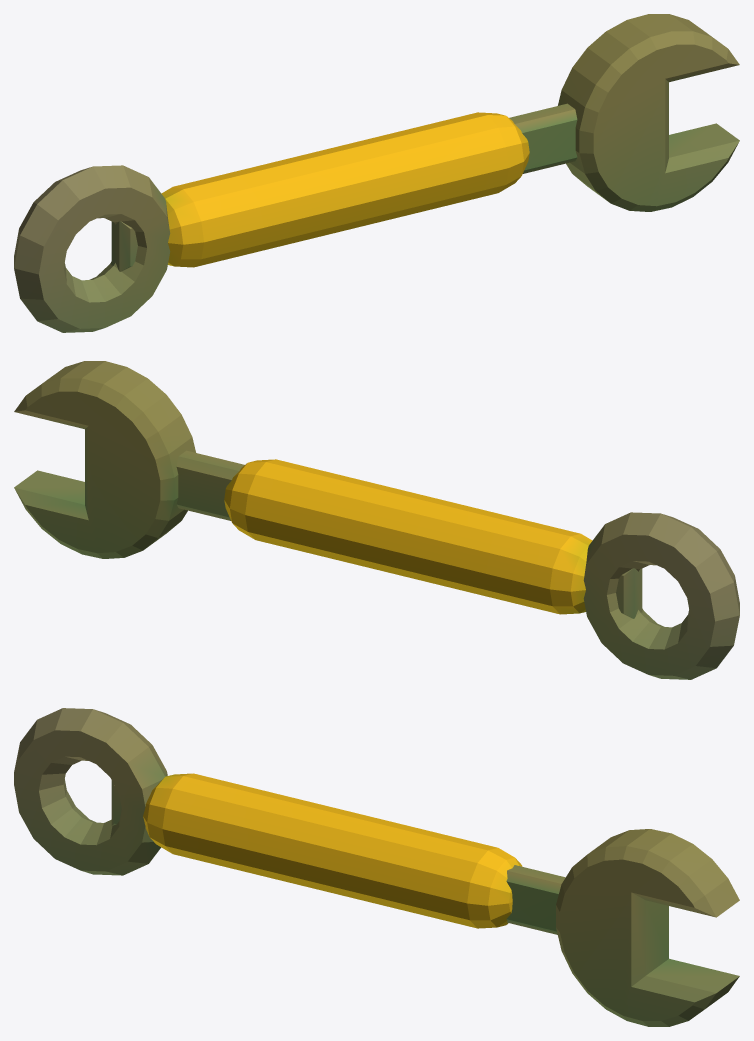
File: Prop_Wrench.fbx
The picture shows the model from 3 angles, top to bottom: view 1: azimuth 30°, elevation 25°; view 2: azimuth 150°, elevation 25°; view 3: azimuth 330°, elevation 25°; orthographic projection.
Parts seen in each view (by area): view 1: Prop_Wrench; view 2: Prop_Wrench; view 3: Prop_Wrench.
Part boxes in pixels (x1=…): Prop_Wrench: x1=14, y1=14, x2=739, y2=332; Prop_Wrench: x1=14, y1=361, x2=739, y2=679; Prop_Wrench: x1=14, y1=708, x2=739, y2=1026.
Bounding box in the file's own units: 0.6328 × 0.1492 × 0.064.
